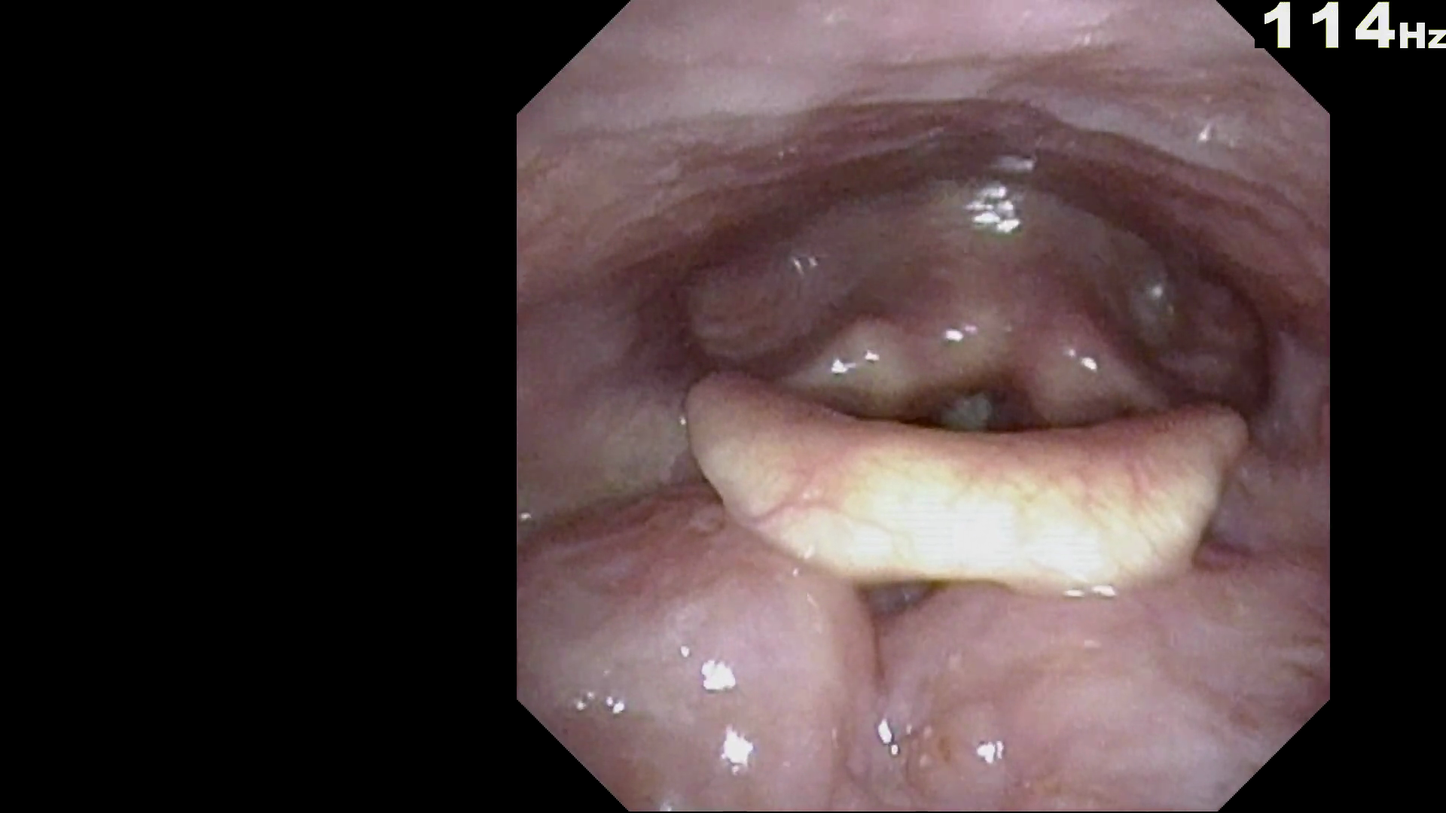epiglottis: (674, 347, 1276, 609)
trachea: (904, 325, 1050, 479)
